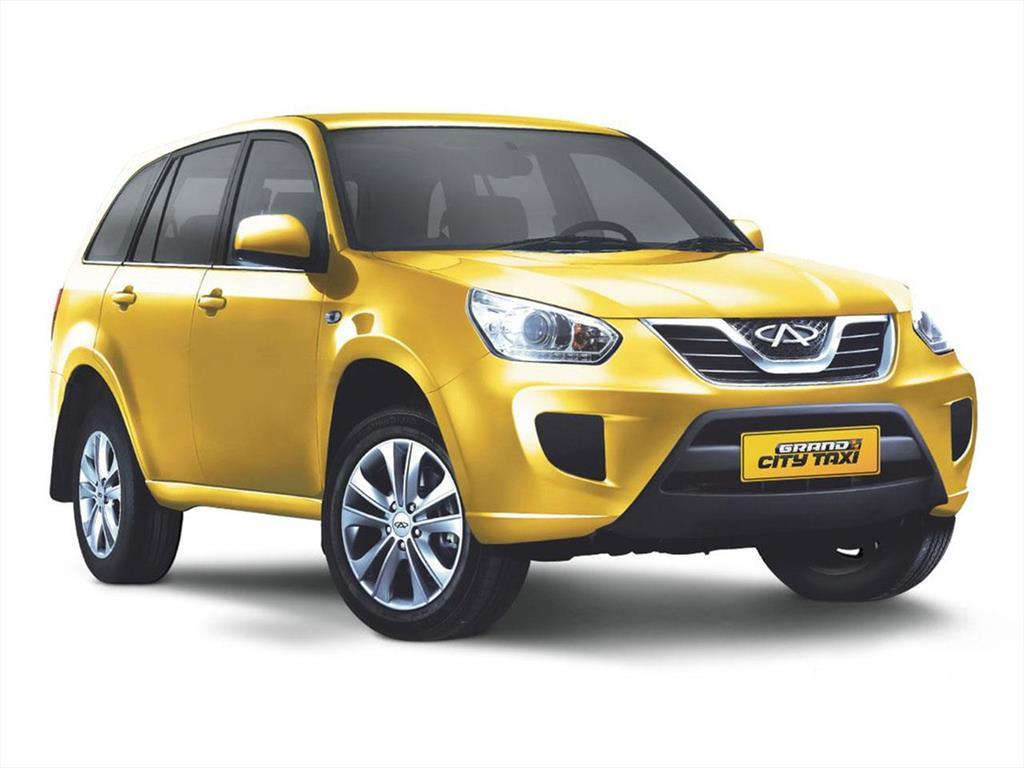taxi: (27, 87, 988, 644)
